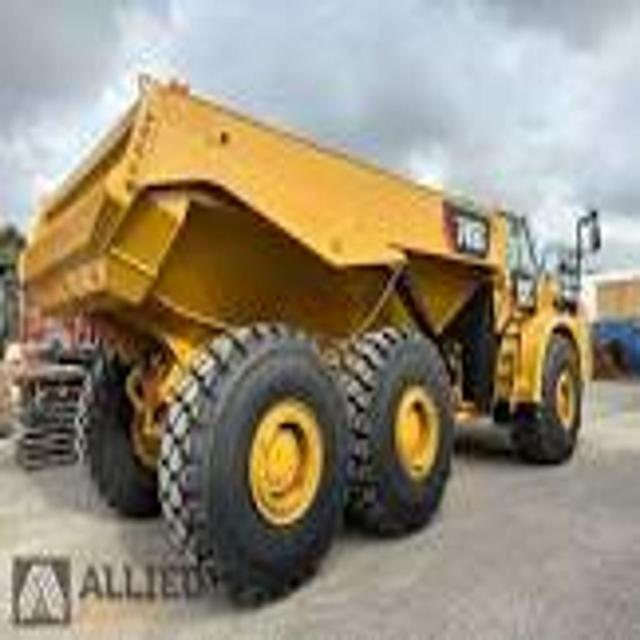dump_truck: (18, 67, 602, 633)
